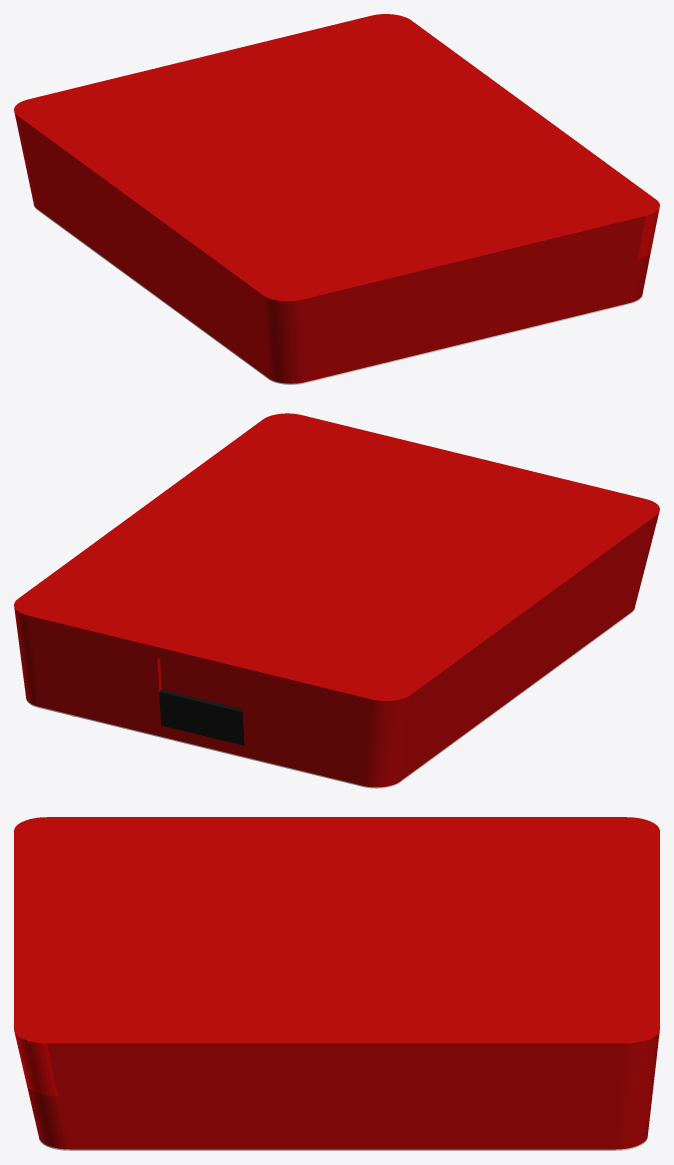
3 views of the same model, one above another, from view 1: azimuth 30°, elevation 25°; view 2: azimuth 150°, elevation 25°; view 3: azimuth 270°, elevation 25° (orthographic). The views are drawn at different scales.
Visible parts, largest first — view 1: fire lite bg l pull station; view 2: fire lite bg l pull station; view 3: fire lite bg l pull station.
Part boxes in pixels (x1,y1,x2,y2): fire lite bg l pull station: [14, 14, 659, 384]; fire lite bg l pull station: [14, 413, 659, 788]; fire lite bg l pull station: [14, 817, 659, 1150].
Size of the model in its own units: 276 by 67 by 333.
